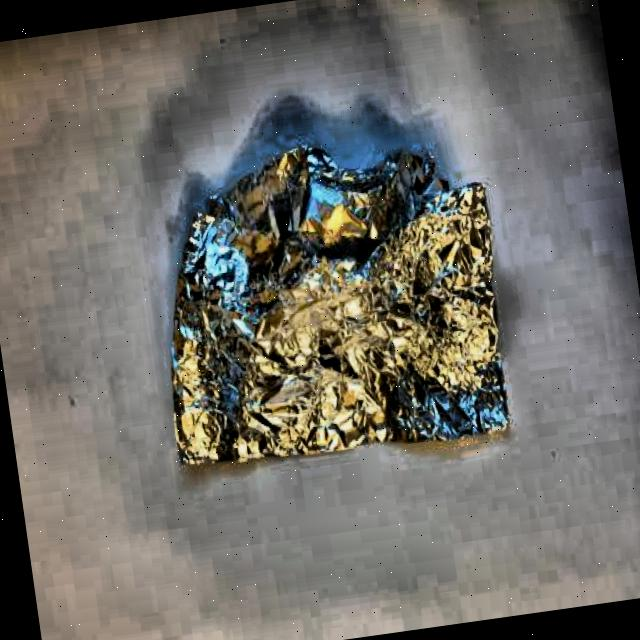metal: (136, 118, 512, 480)
